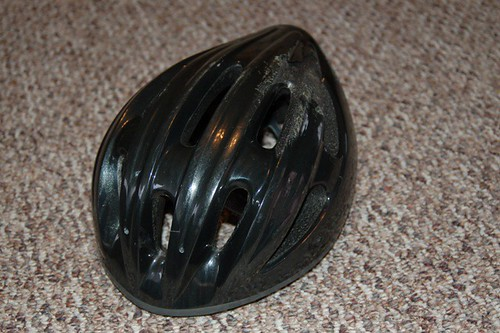helmet: (81, 14, 365, 311)
